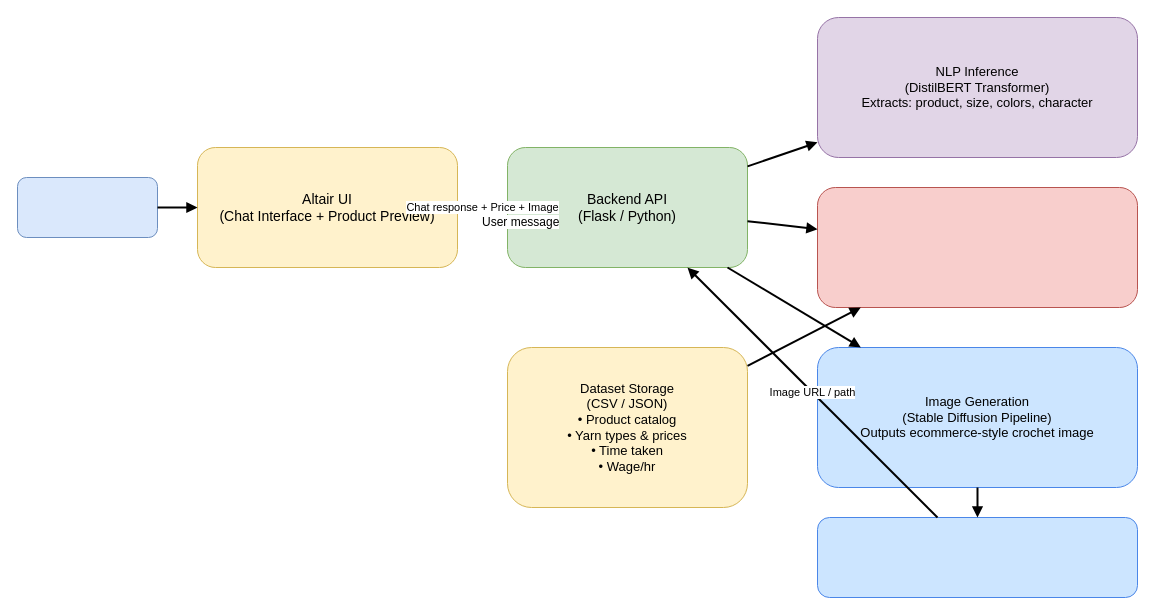
The diagram is 1155 pixels wide and 615 high, and some of its shapes have lost their labels. The box of each missing label's shape, as (x1, y1, x2, y2) in pixels:
Generated Images (static/ or generated_images/): (816, 516, 1138, 598)
Pricing Engine Price = (Wage/hr × Time) + Yarn Cost: (816, 186, 1138, 308)
User: (16, 176, 158, 238)
